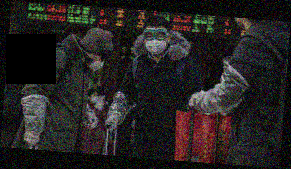with_mask: (143, 26, 168, 56), (88, 53, 106, 72), (89, 93, 100, 105)
